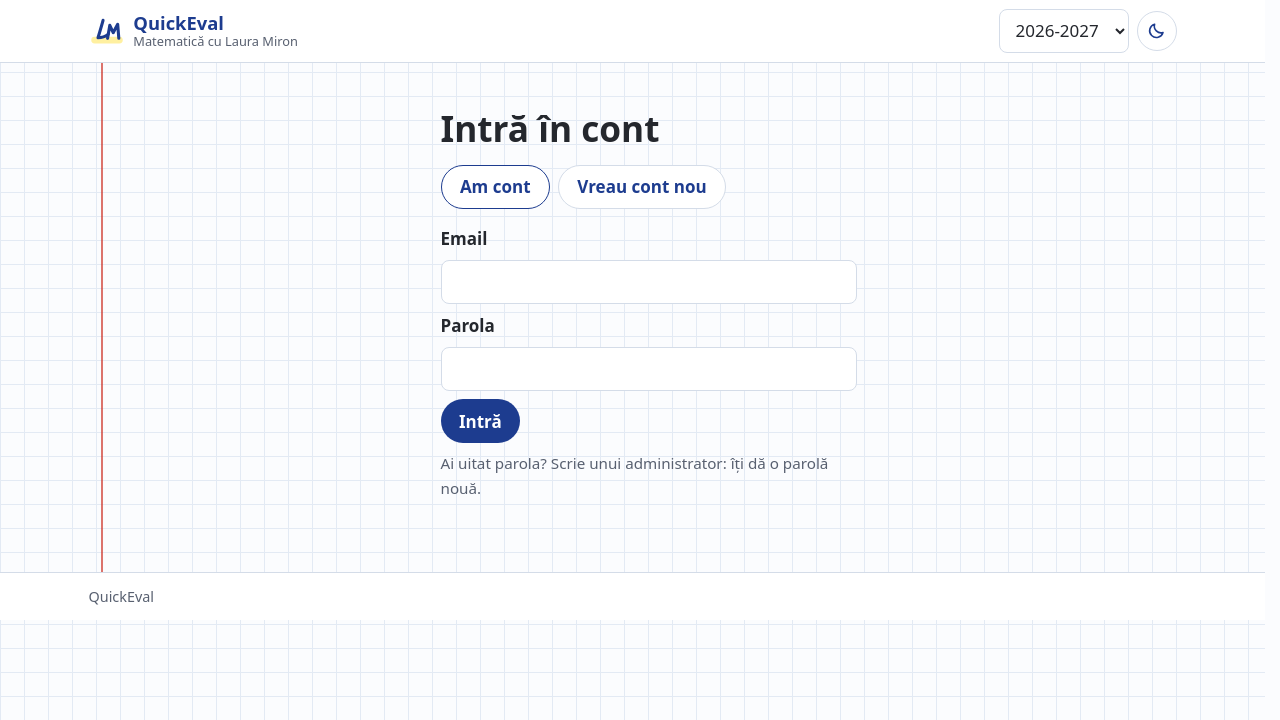
Scenario: the login form › takes the place of every page while nobody is logged in, and opens the page after the login
Check: the heading "Intră în cont" is shown, box [440,104,660,152]
Type "profesor@example.com" into the field labelled "Email". click: (648, 282)
box: [440,260,856,304]
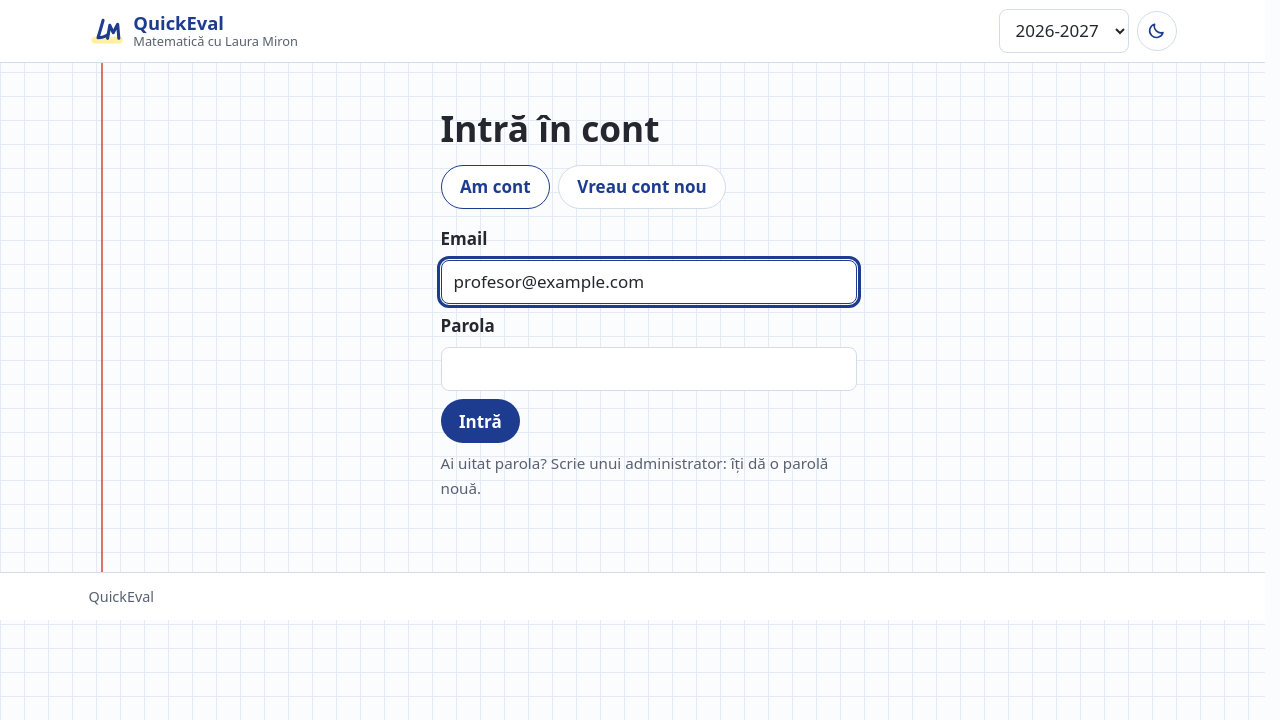
Type "parola-buna" into the password field labelled "Parola". click: (648, 369)
box: [440,347,856,391]
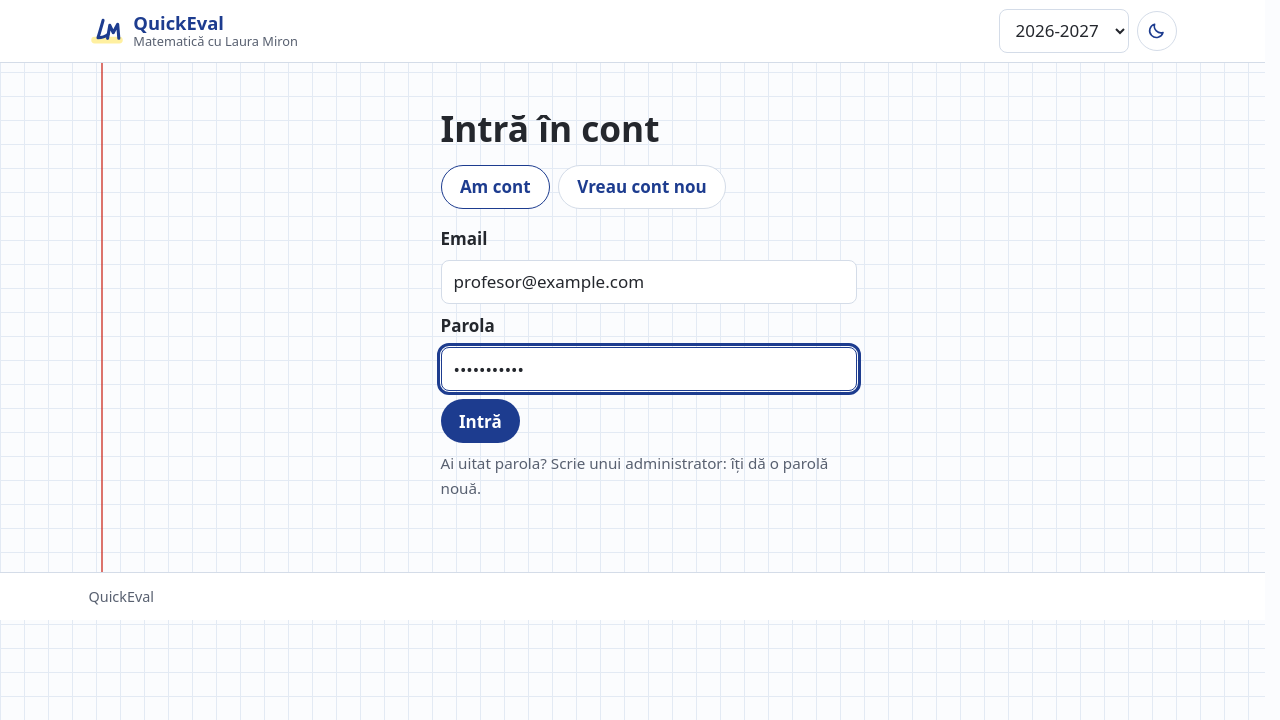
Click the button "Intră". click: (480, 421)
box: [440,399,520,443]
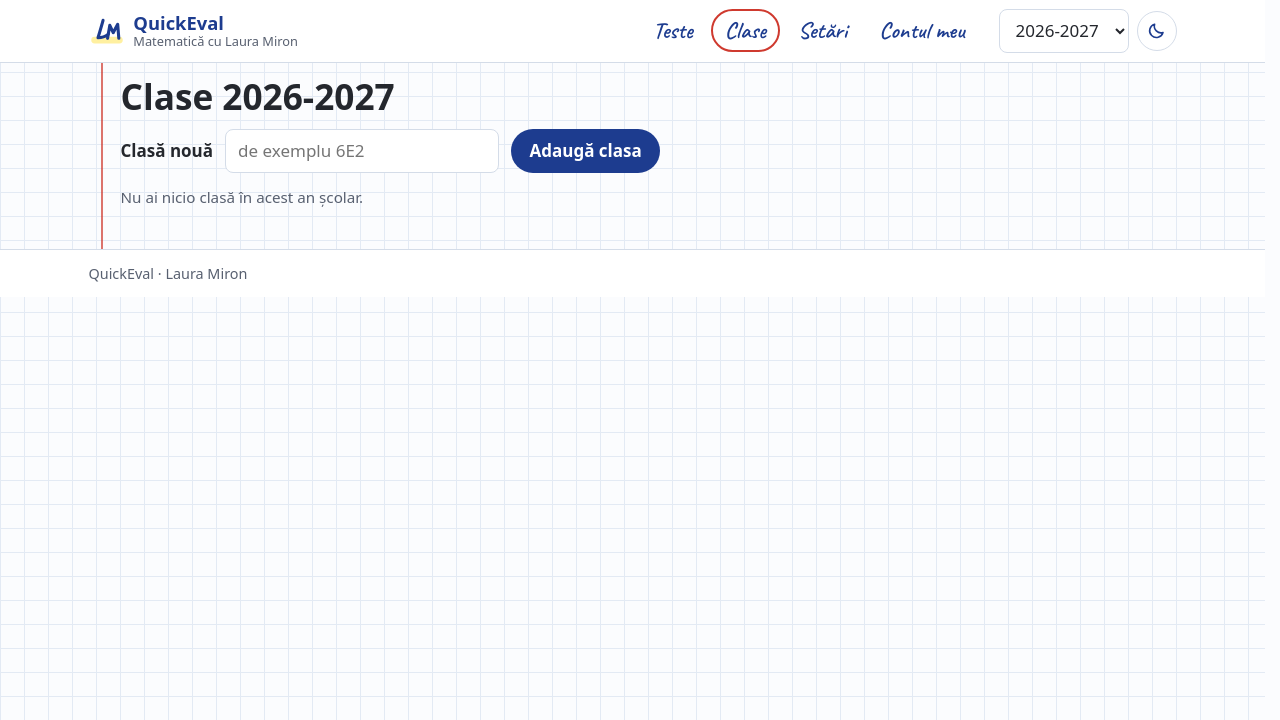
Check: the heading "Clase 2026-2027" is shown, box [120,72,395,120]
Check: the navigation bar named "Meniu" is shown, box [639,9,978,52]
